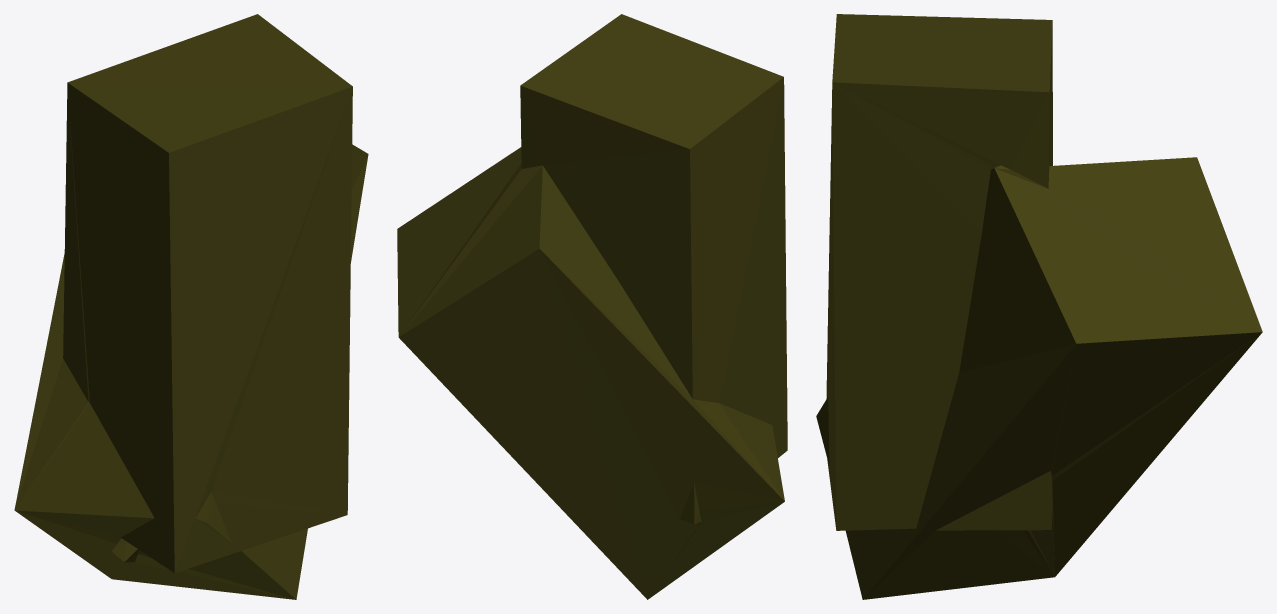
3 views of the same model, side by side, from view 1: azimuth 30°, elevation 25°; view 2: azimuth 150°, elevation 25°; view 3: azimuth 270°, elevation 25° (orthographic). The views are drawn at different scales.
Visible parts, largest first — view 1: 285_Cube.1165; view 2: 285_Cube.1165; view 3: 285_Cube.1165.
Boxes of the visible parts, x1,y1,x2,y2 form: 285_Cube.1165: (14, 14, 368, 599); 285_Cube.1165: (397, 14, 787, 599); 285_Cube.1165: (816, 14, 1262, 599).
Size of the model in its own units: 11.96 by 15.68 by 11.26.
